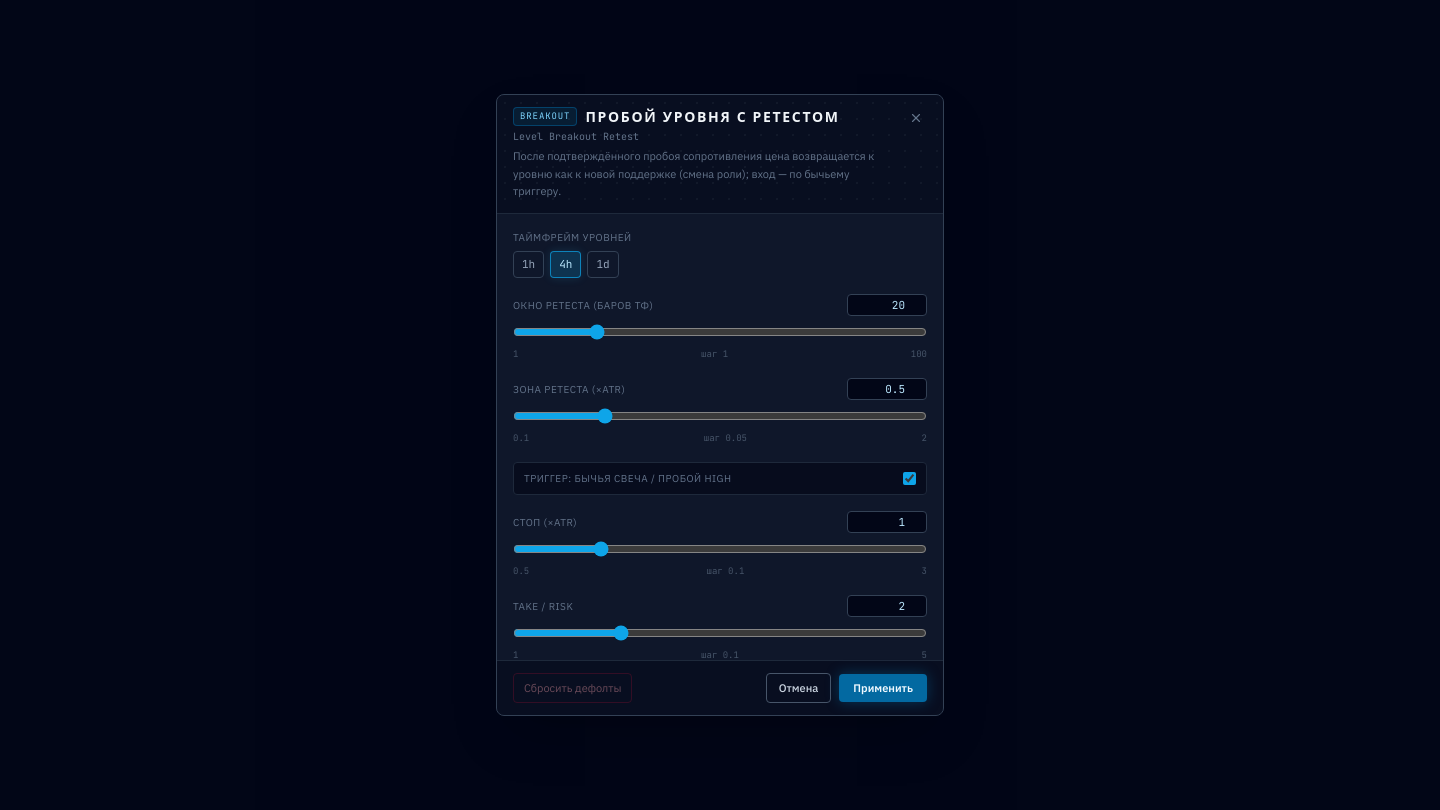
Scenario: PatternSettingsModal · level_breakout_retest › shows a validation error for retest_window_bars = 0
Replace the text in the number field labelled "Окно ретеста (баров ТФ)" with "0": (887, 305) [847, 294, 927, 316]
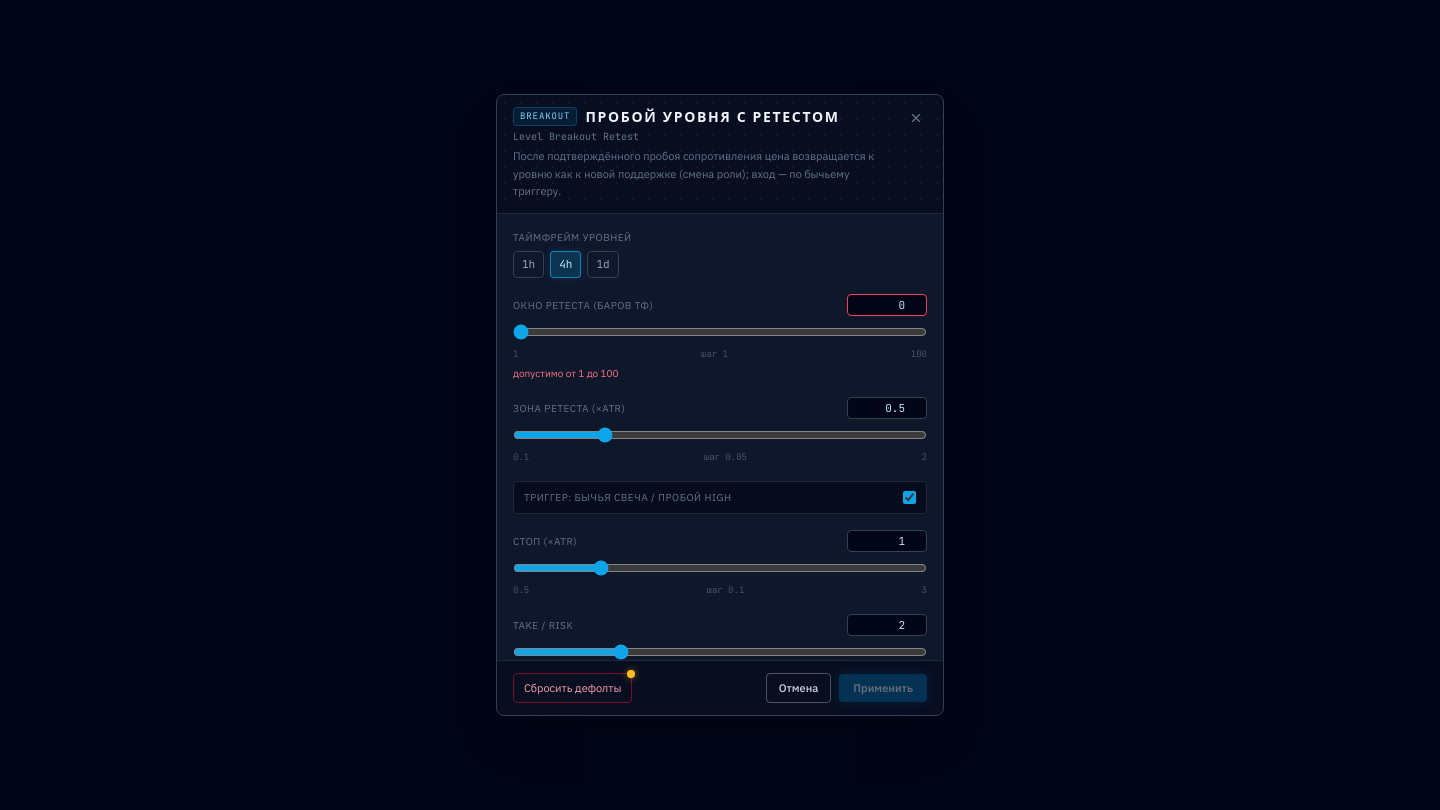
Now the message reads "допустимо от 1 до 100", box [513, 367, 619, 380]
Now the button "Применить" is disabled, box [839, 674, 927, 702]
